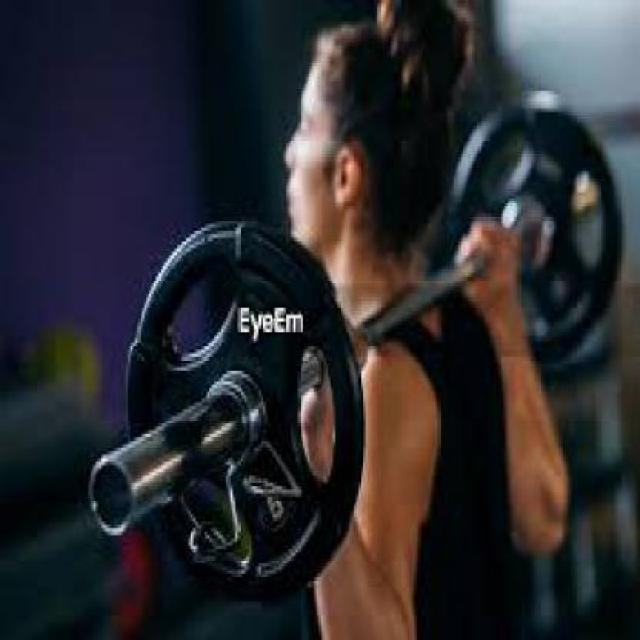barbell: (88, 216, 366, 605)
